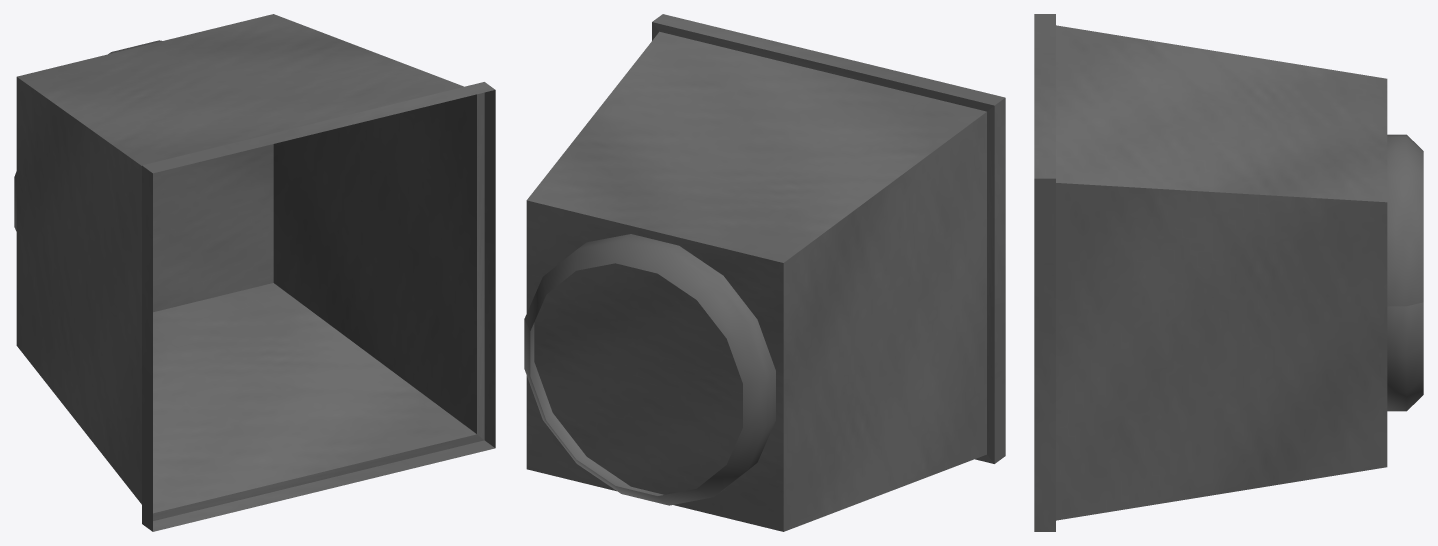
Rendered from polebase_thin_pedestal.obj.
3 renders of one model, left to right at view 1: azimuth 30°, elevation 25°; view 2: azimuth 150°, elevation 25°; view 3: azimuth 270°, elevation 25°, orthographic.
Visible parts, largest first — view 1: polebase_thin_pedestal; view 2: polebase_thin_pedestal; view 3: polebase_thin_pedestal.
Part boxes in pixels (x1,y1,x2,y2): polebase_thin_pedestal: [14, 14, 495, 531]; polebase_thin_pedestal: [524, 14, 1005, 531]; polebase_thin_pedestal: [1034, 14, 1423, 531].
Size of the model in its own units: 0.8 by 0.8 by 0.7994.
